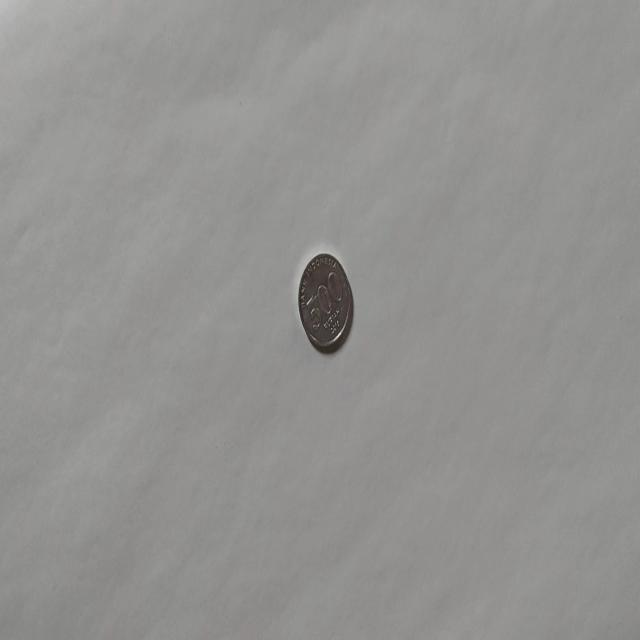lima ratus rupiah: (296, 250, 354, 352)
